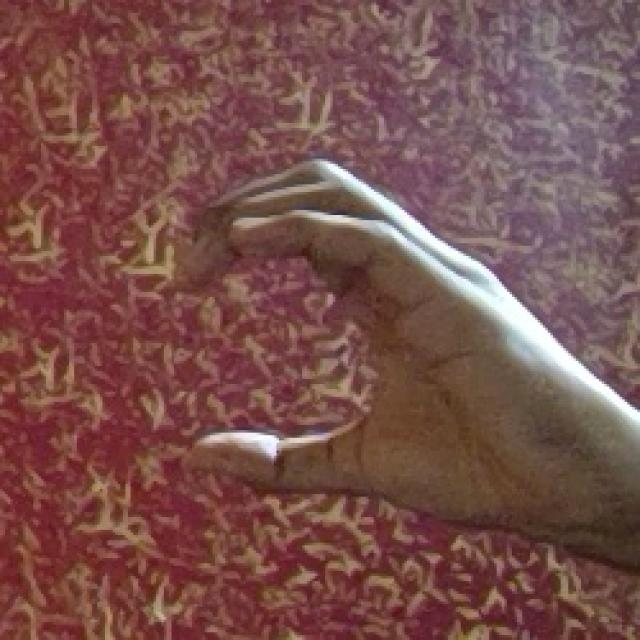Alphabet-C: (187, 159, 640, 570)
